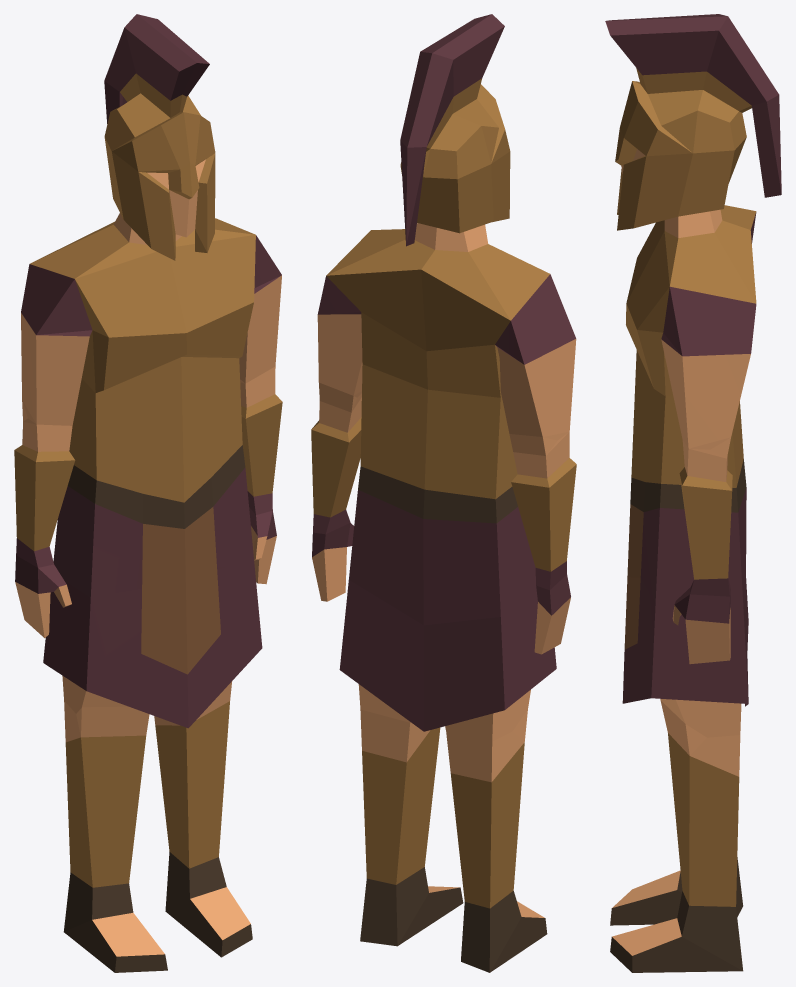
File: SM_Man_Soldier_Spartan_Empire.fbx
The picture shows the model from 3 angles, left to right: view 1: azimuth 30°, elevation 25°; view 2: azimuth 150°, elevation 25°; view 3: azimuth 270°, elevation 25°; orthographic projection. The views are drawn at different scales.
Visible parts, largest first — view 1: SM_Man_Soldier_Spartan_Empire; view 2: SM_Man_Soldier_Spartan_Empire; view 3: SM_Man_Soldier_Spartan_Empire.
Boxes of the visible parts, x1,y1,x2,y2 form: SM_Man_Soldier_Spartan_Empire: (14, 14, 282, 972); SM_Man_Soldier_Spartan_Empire: (311, 14, 576, 972); SM_Man_Soldier_Spartan_Empire: (605, 14, 781, 972).
Bounding box in the file's own units: 0.5565 × 1.96 × 0.3392.
